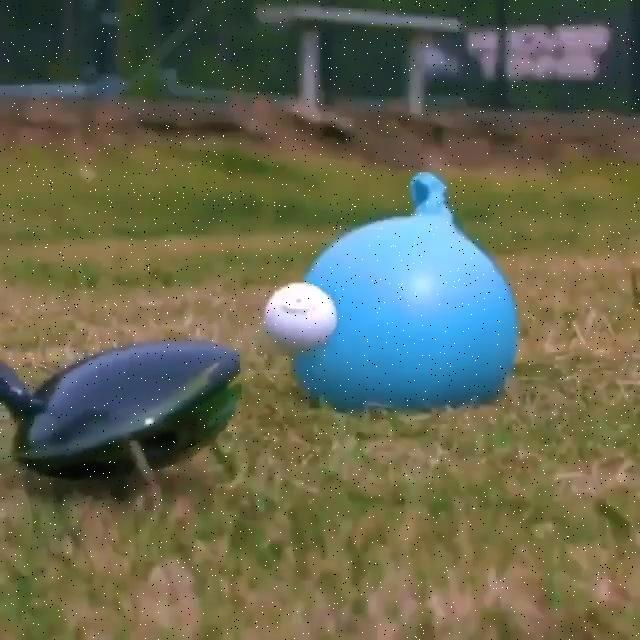golf ball: (265, 283, 334, 351)
golf club-head: (14, 343, 242, 479)
